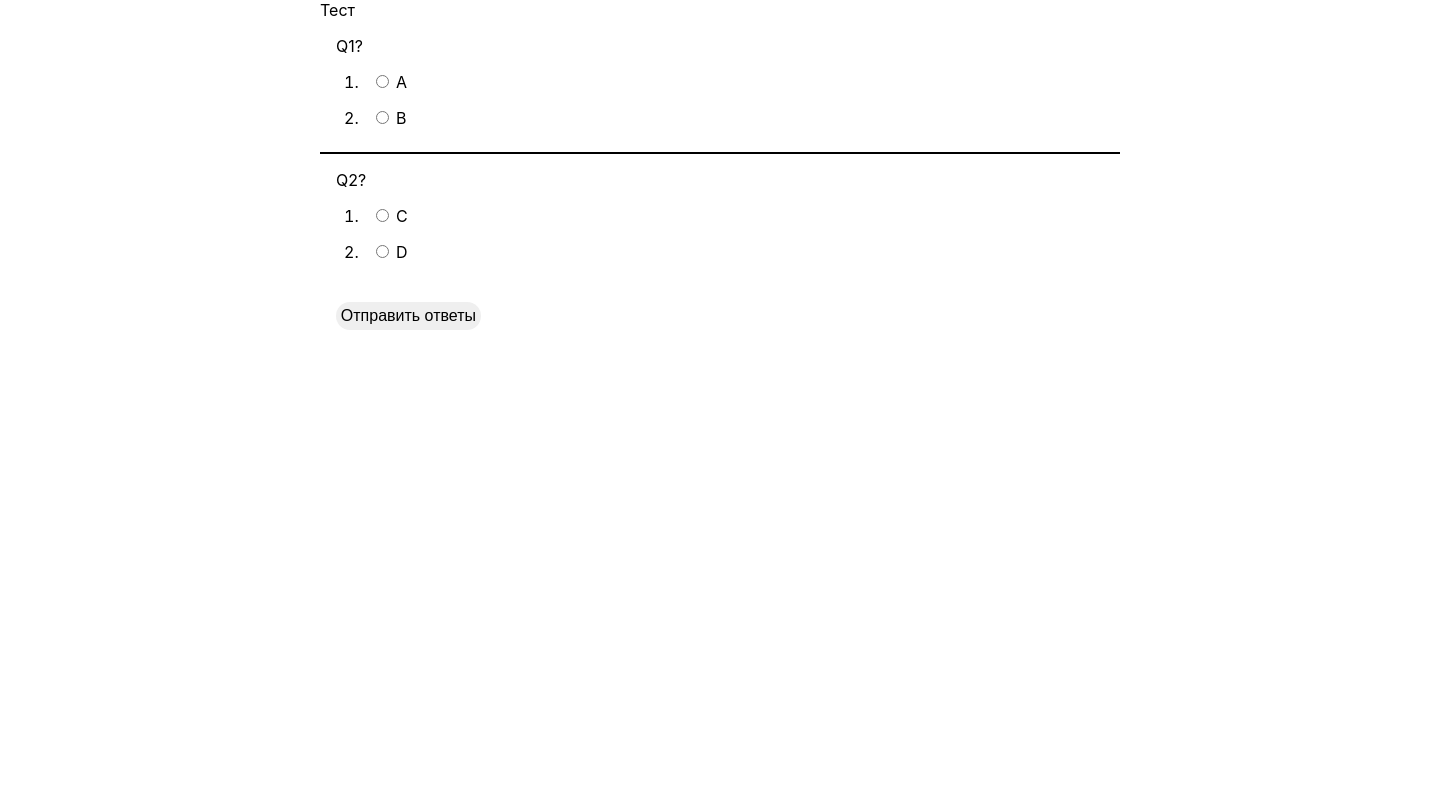
Test: Test test › should show popup with success message on correct answers
Step 1. Click the 1st radio button → (382, 82), box [376,75,389,88]
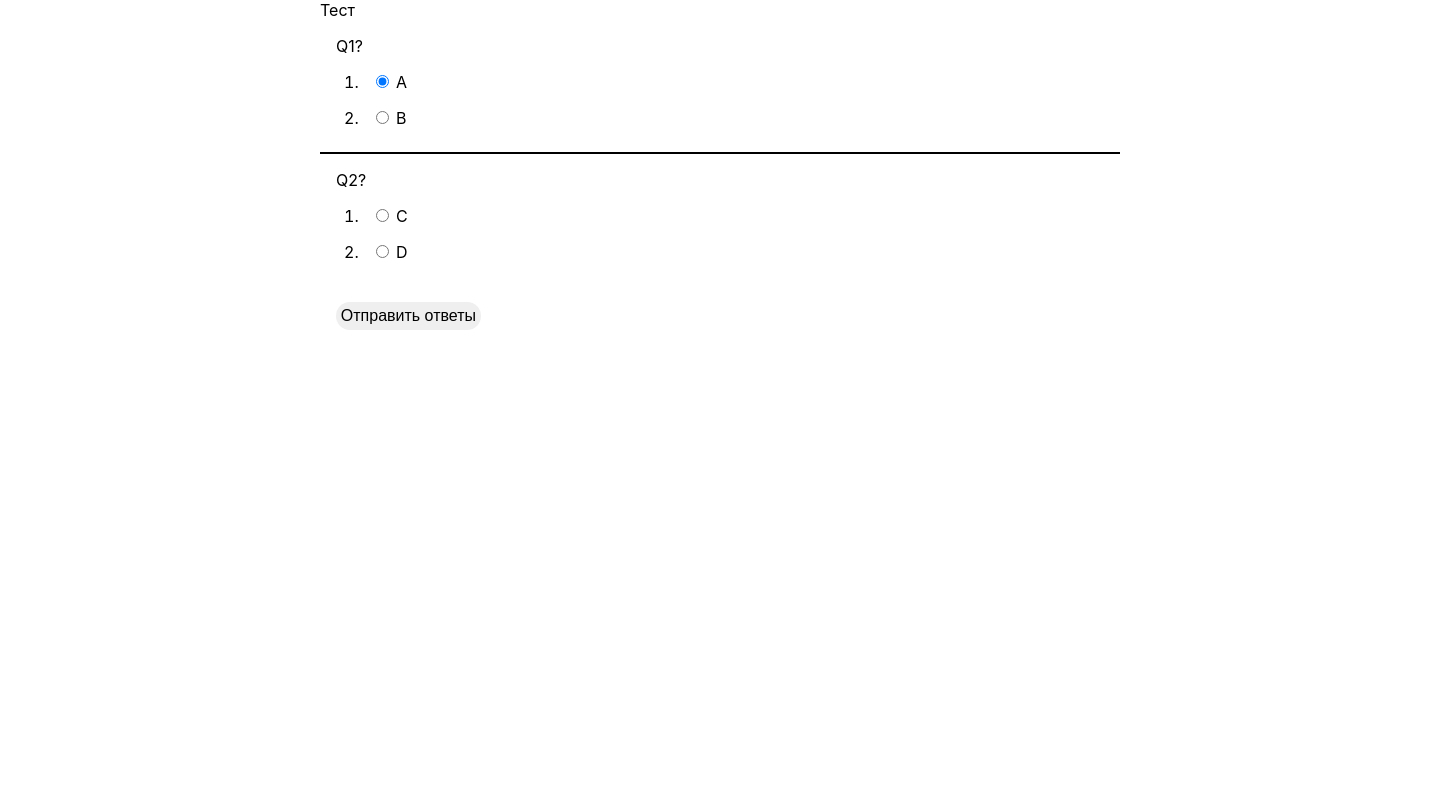
Step 2. Click the 2nd radio button → (382, 118), box [376,111,389,124]
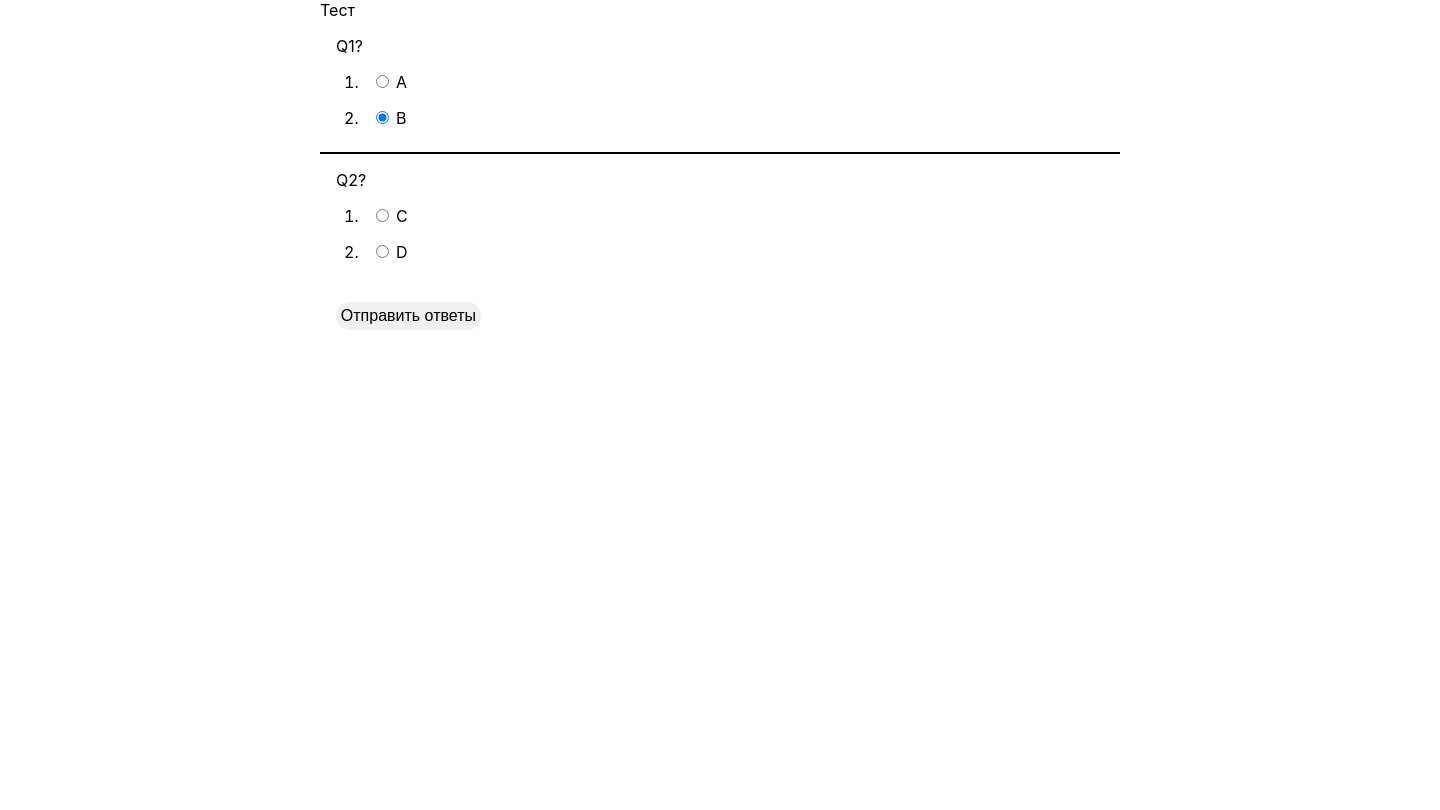
Step 3. Click the 3rd radio button → (382, 216), box [376,209,389,222]
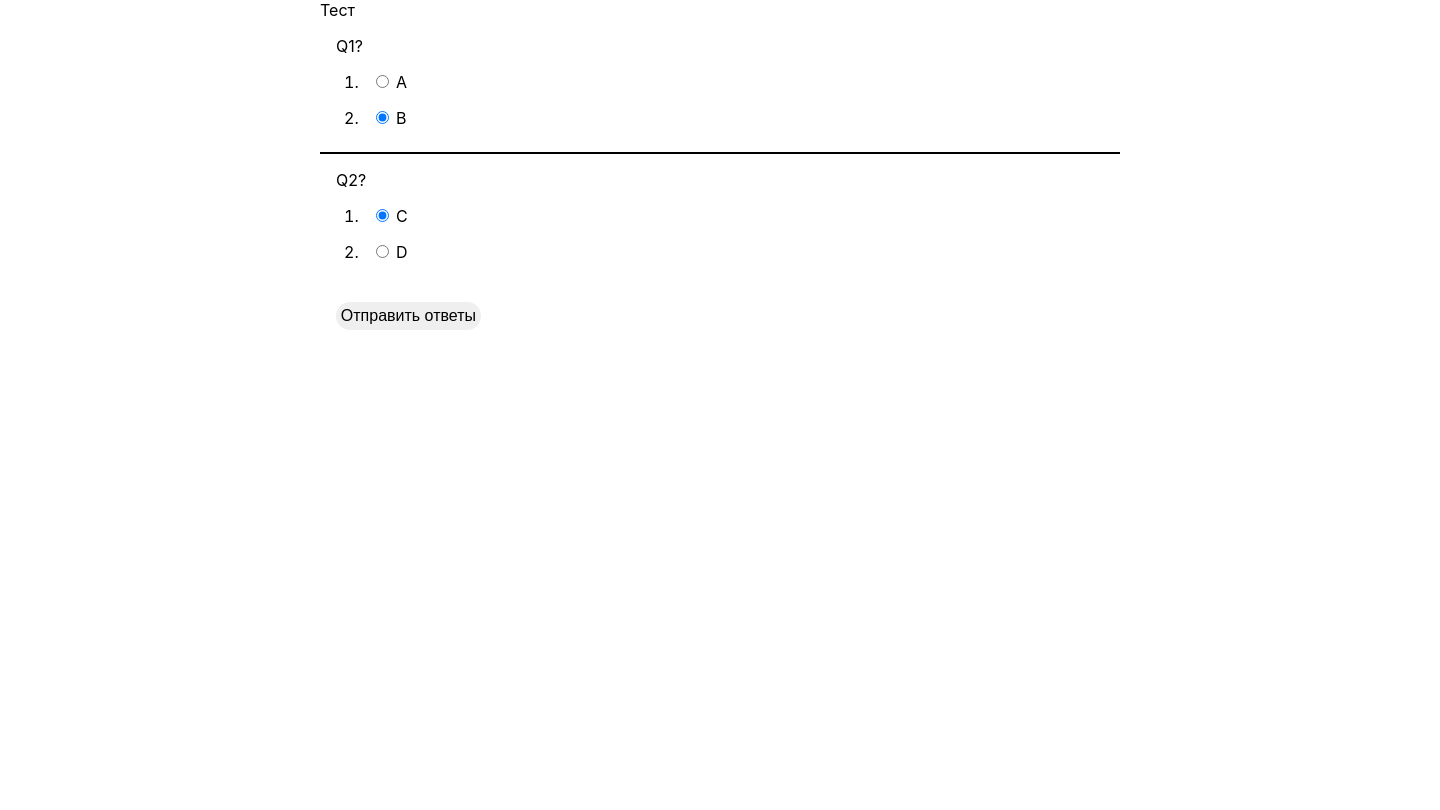
Step 4. Click the 4th radio button → (382, 252), box [376,245,389,258]
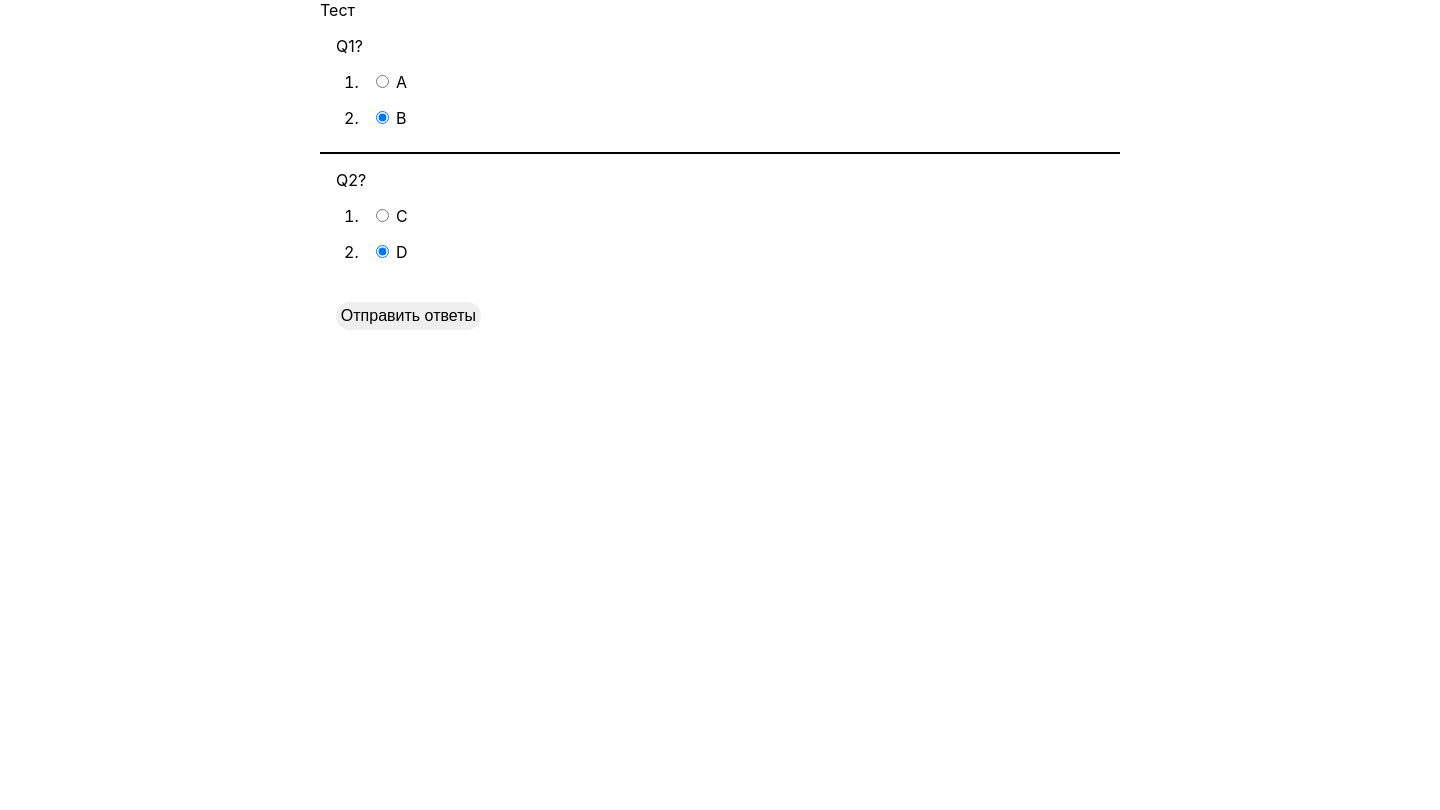
Step 5. Submit the form from the button "Отправить ответы", box [336,302,481,330]
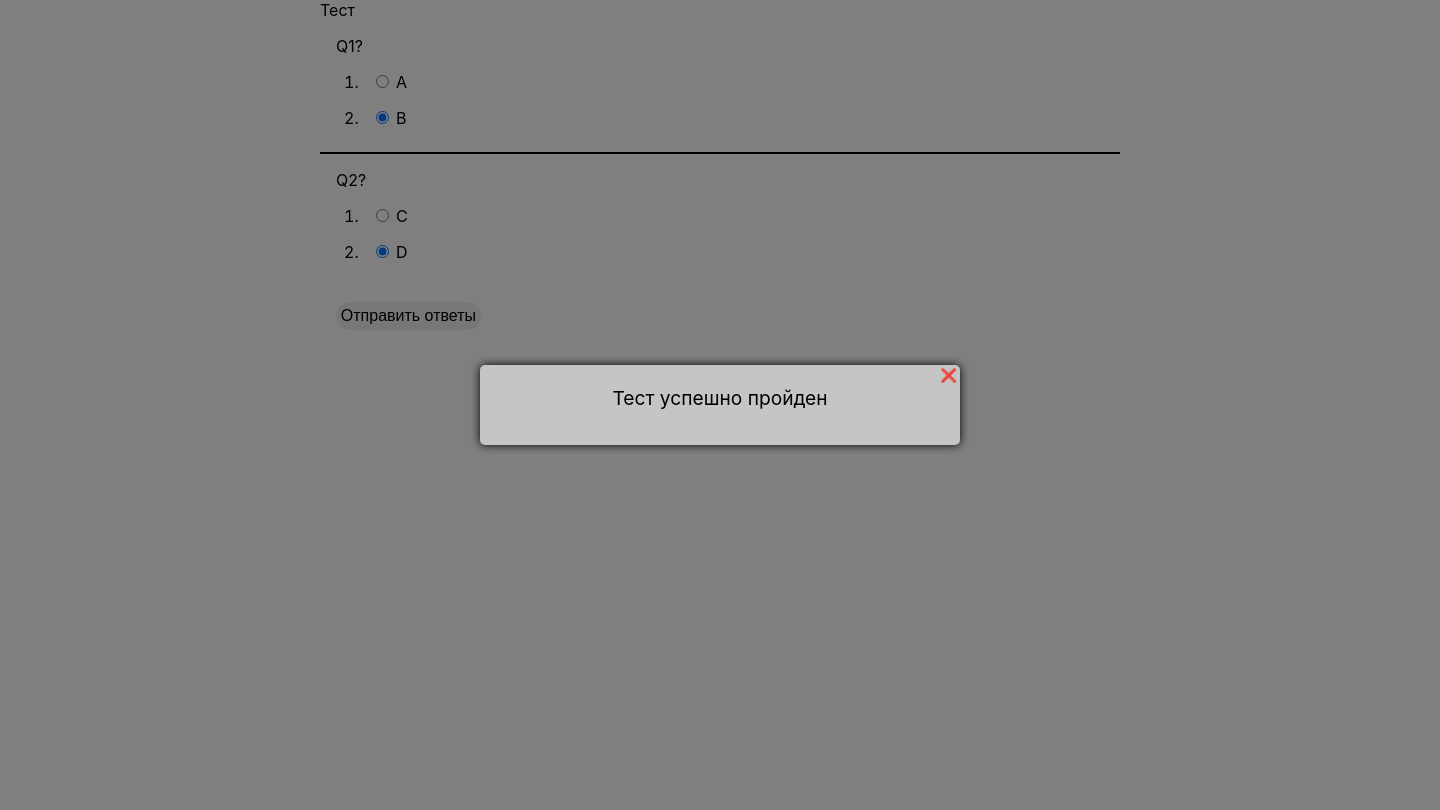
Expected: the text "Тест успешно пройден" is shown, [612,386,828,410]
